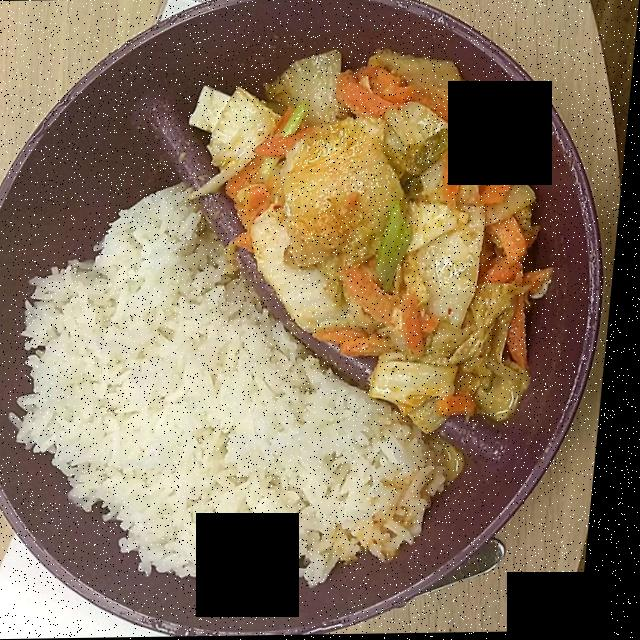rice: (27, 191, 464, 589)
salad-leaf-salad-green: (188, 38, 537, 425)
